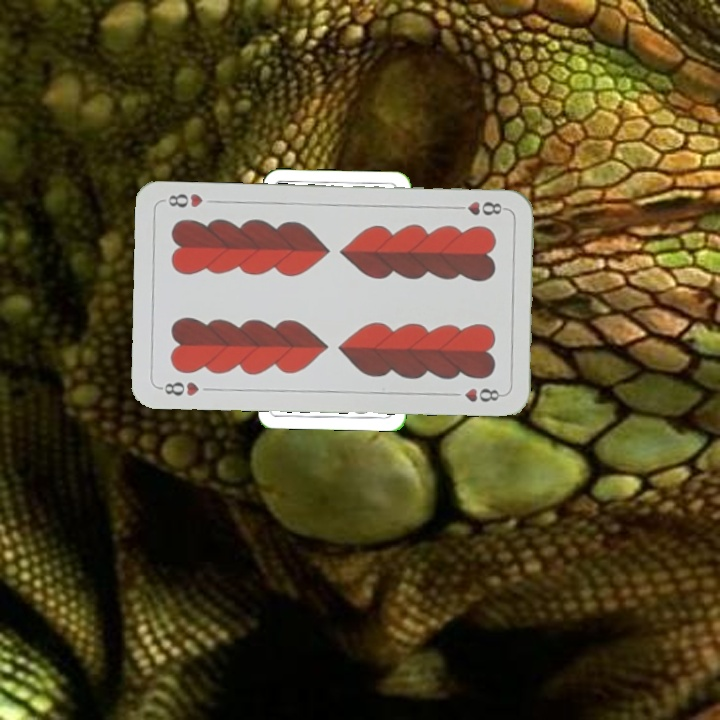H8: (449, 197, 509, 218), (155, 377, 202, 398)
